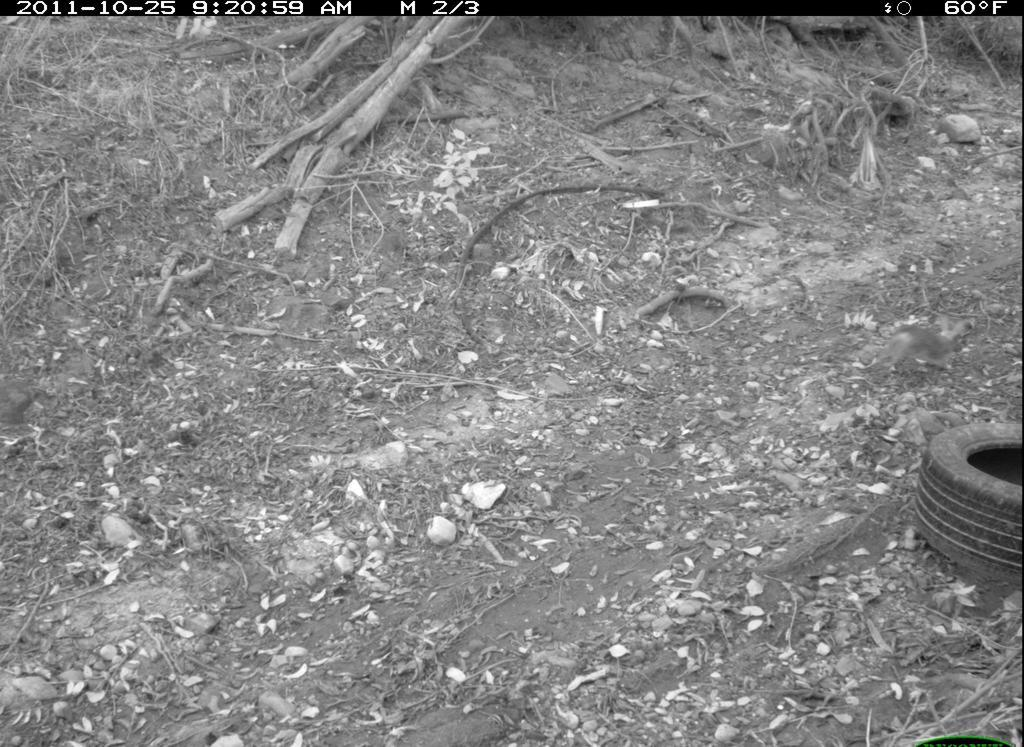rabbit: (866, 299, 980, 392)
